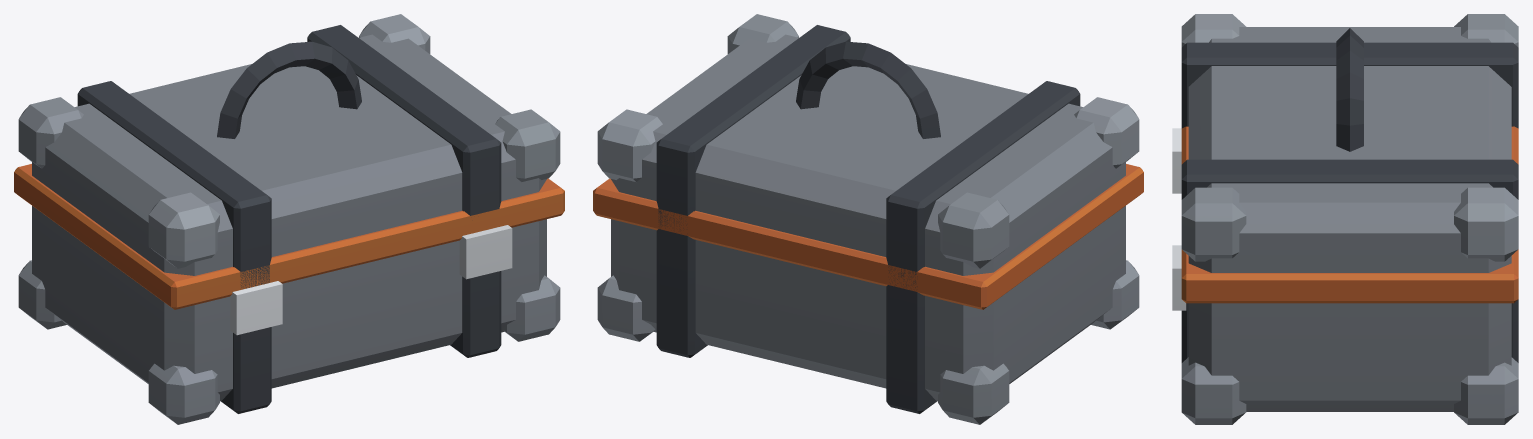
Rendered from supply_case.glb.
3 views of the same model, side by side, from view 1: azimuth 30°, elevation 25°; view 2: azimuth 150°, elevation 25°; view 3: azimuth 270°, elevation 25° (orthographic). The views are drawn at different scales.
Visible parts, largest first — view 1: case_body; view 2: case_body; view 3: case_body.
Part boxes in pixels (x1,y1,x2,y2): case_body: (14, 14, 564, 424); case_body: (593, 14, 1143, 424); case_body: (1172, 14, 1518, 424).
Size of the model in its own units: 1.03 by 0.705 by 0.75.
